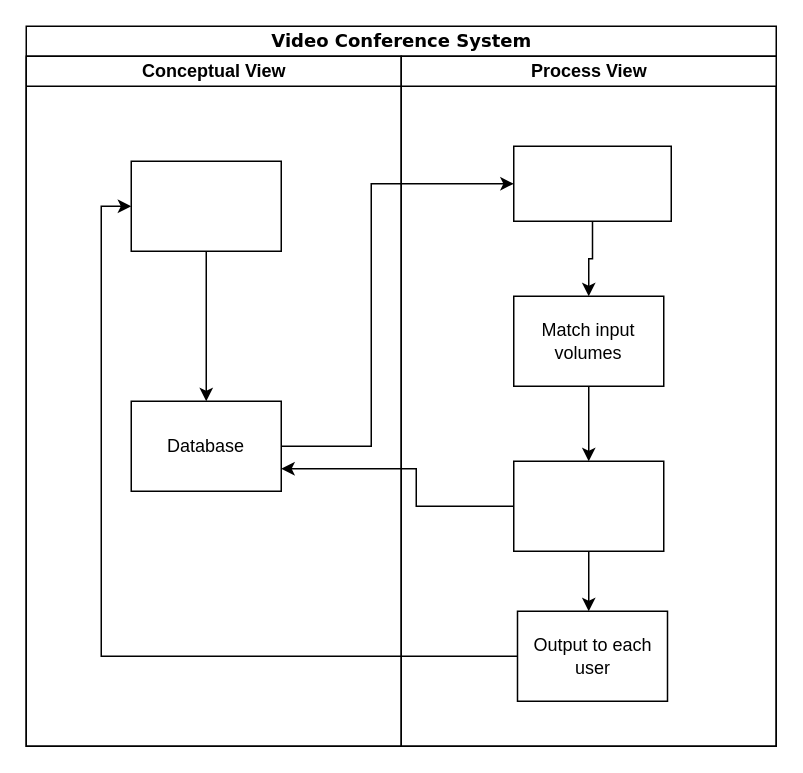
Some shapes in this 803 by 773 pixel diagram are drawn without their labels. Here are the shapes that lost their labels. From the top down, the centre of each, then its label:
At point (591, 183): "Combine Audio and video".
At point (205, 205): "Computer".
At point (588, 505): "Toggle mutes (if selected)".
